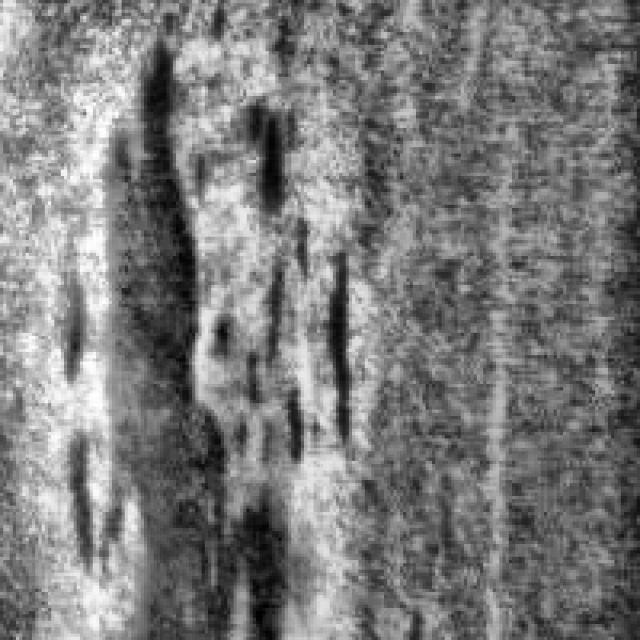Patches: (54, 29, 320, 630), (205, 211, 342, 464), (230, 90, 310, 220)
